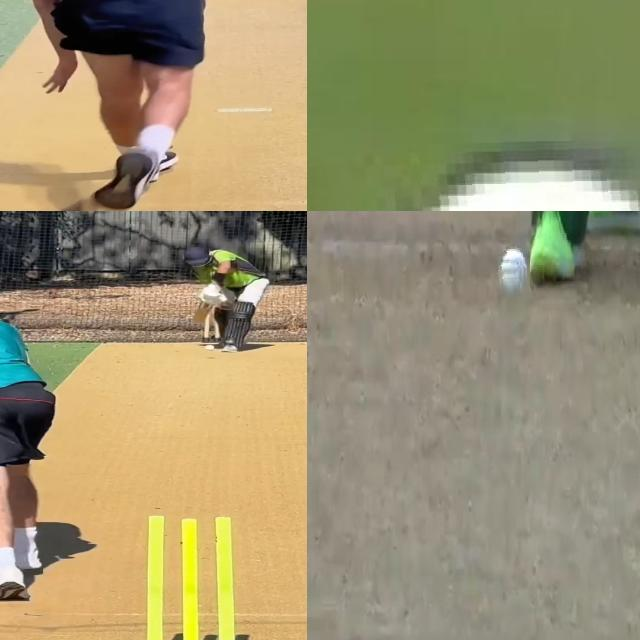Cricket ball: (350, 141, 640, 211), (498, 245, 527, 297), (203, 343, 217, 352)
Stumps: (138, 513, 245, 640)
